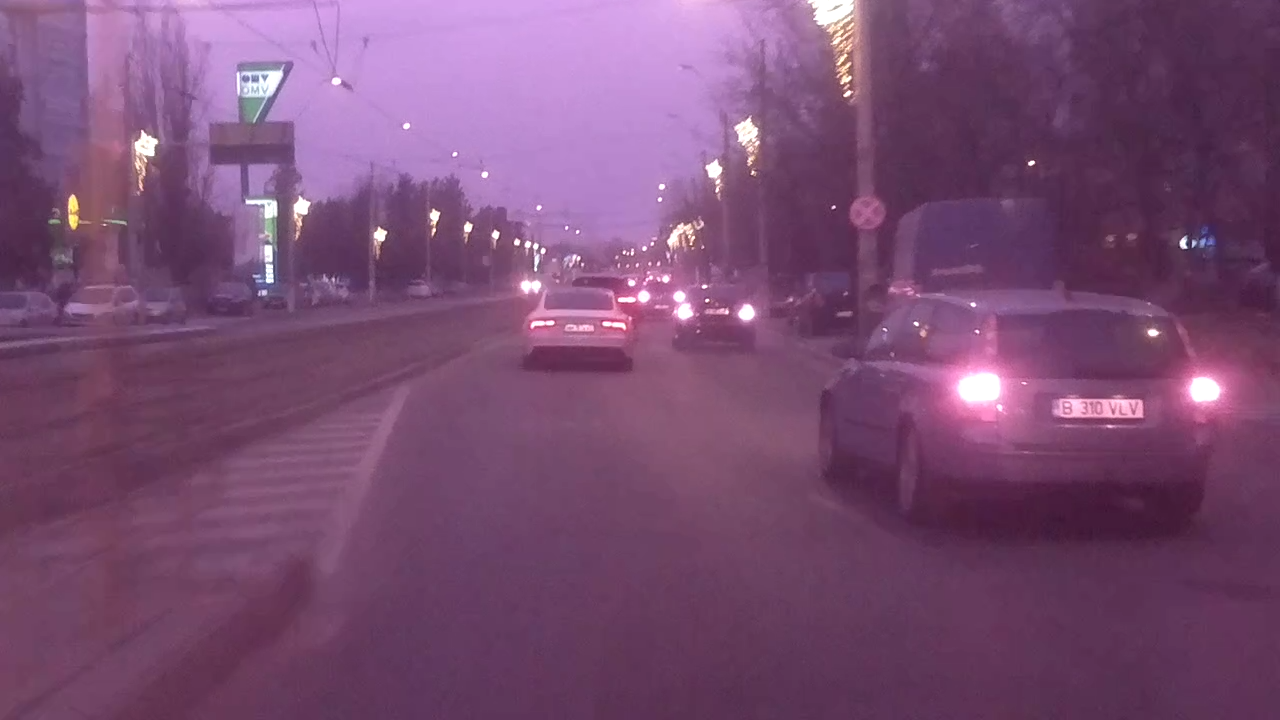license-plate: (1048, 394, 1149, 422)
